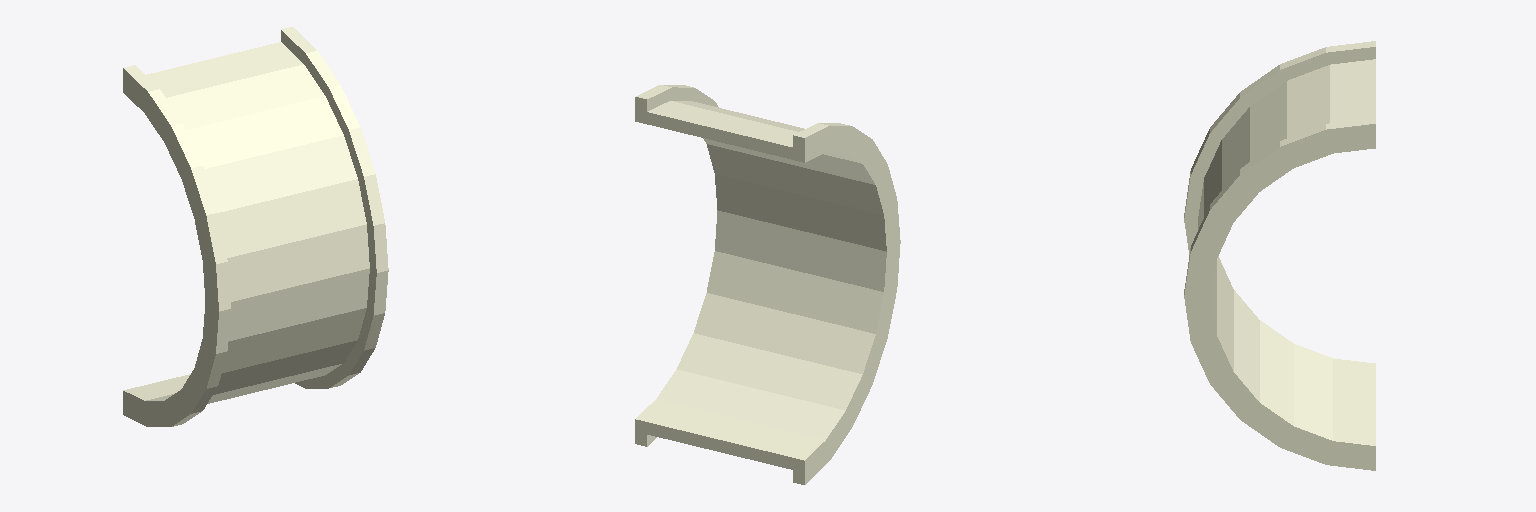
Rendered from section_032.obj.
The picture shows the model from 3 angles: view 1: azimuth 30°, elevation 25°; view 2: azimuth 150°, elevation 25°; view 3: azimuth 270°, elevation 25°; orthographic projection.
Bounding box in the file's own units: 14.3 × 28 × 14.